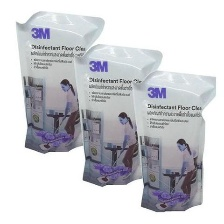cleaning_solution: (69, 40, 166, 190), (12, 9, 107, 157), (127, 68, 220, 214)
